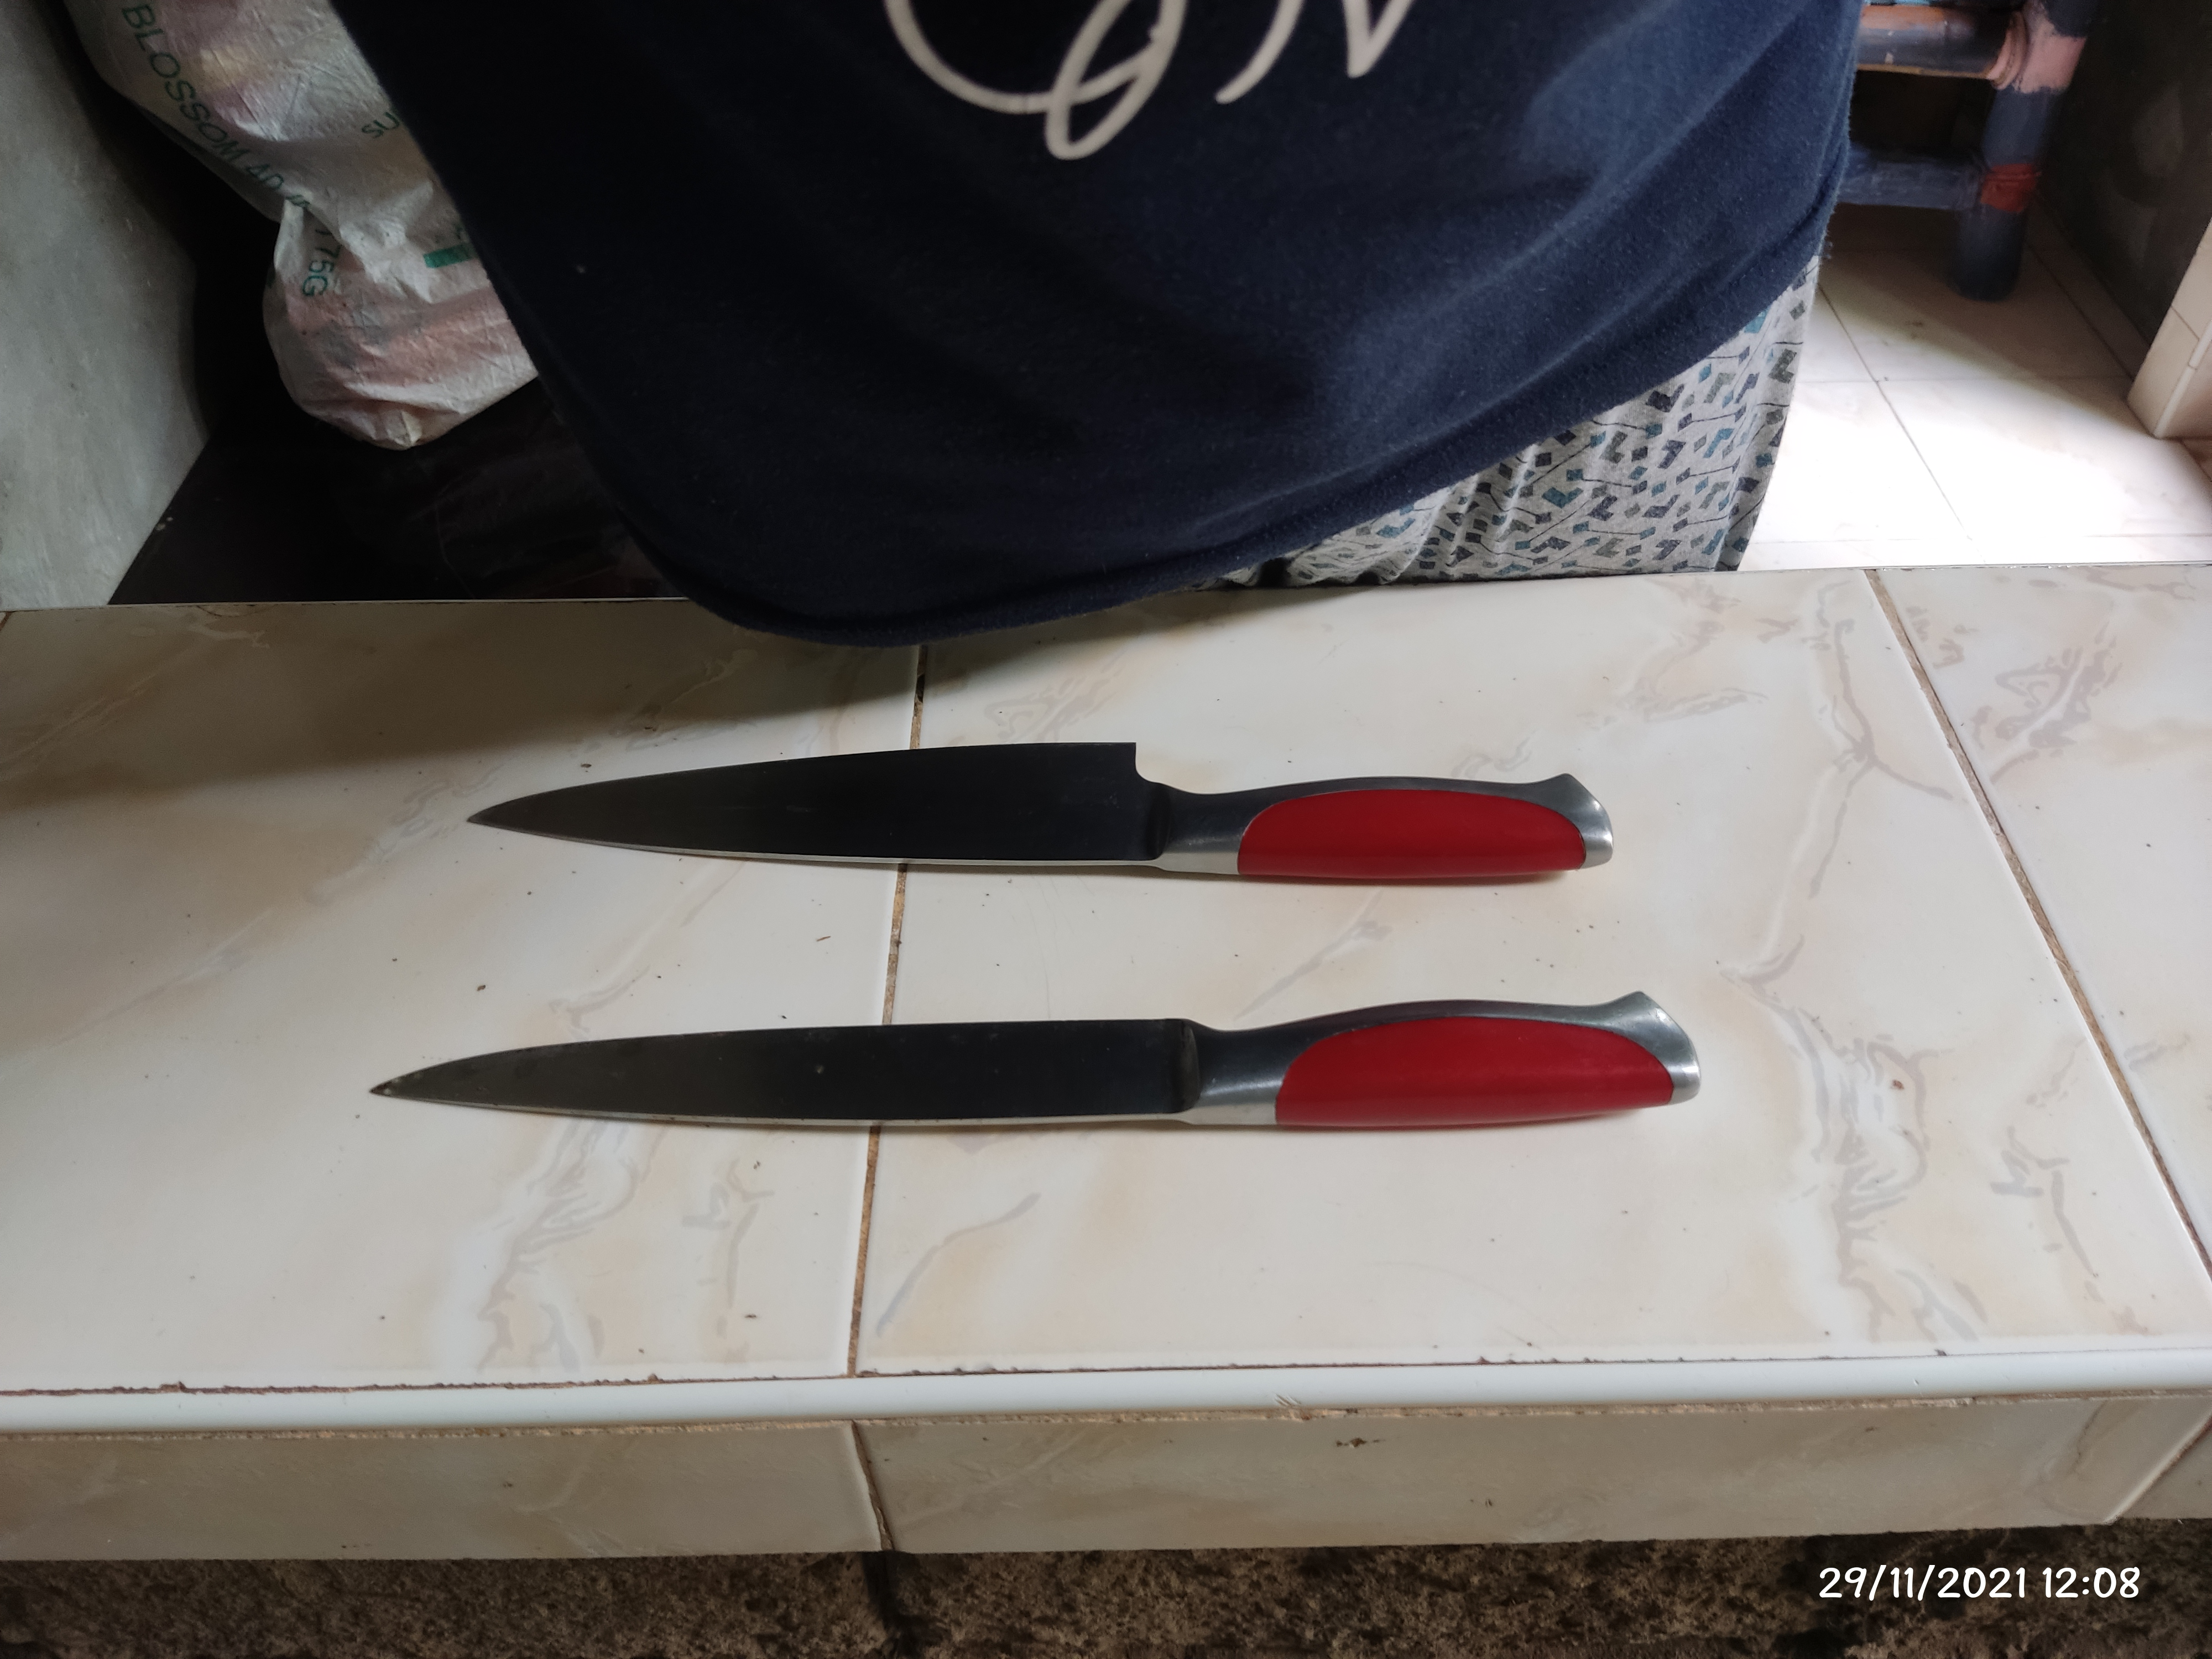knife: (373, 995, 1695, 1129), (467, 732, 1618, 871)
